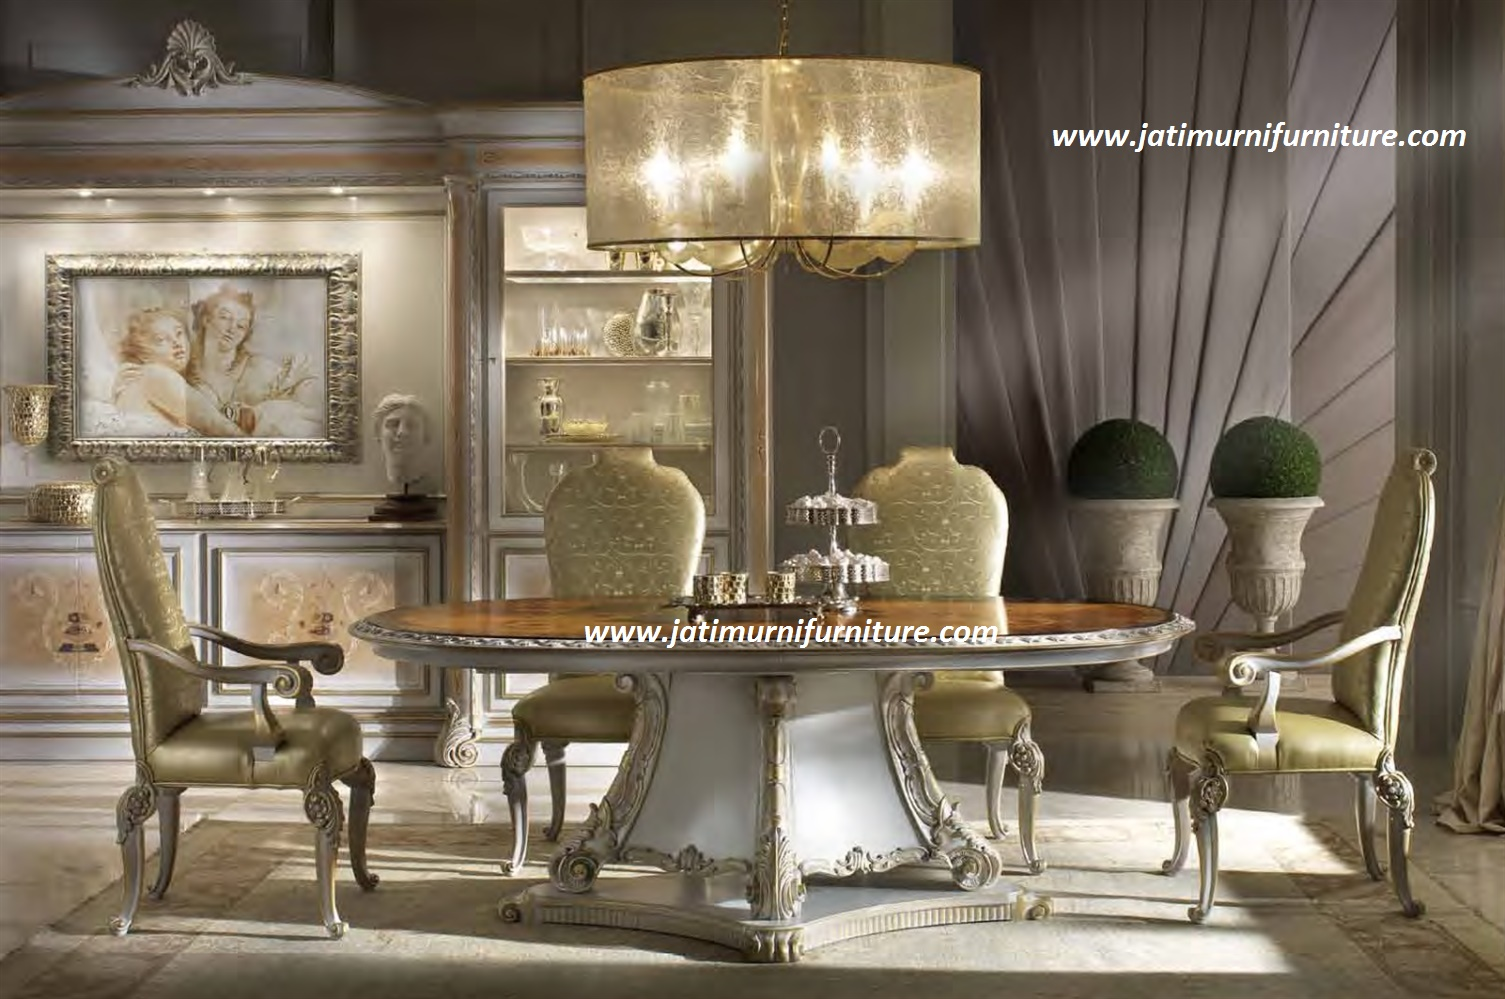Carving Chair: (70, 433, 389, 937), (1192, 457, 1476, 962)
Carving Table: (405, 593, 1174, 977)
